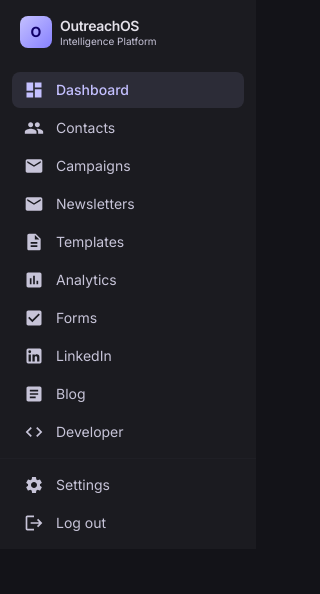
Scenario: Sidebar › shows an error message when sign out fails
The width and height of the screenshot is (320, 594).
Step 1. Click the button "Log out" → (128, 523), box [12,505,244,541]
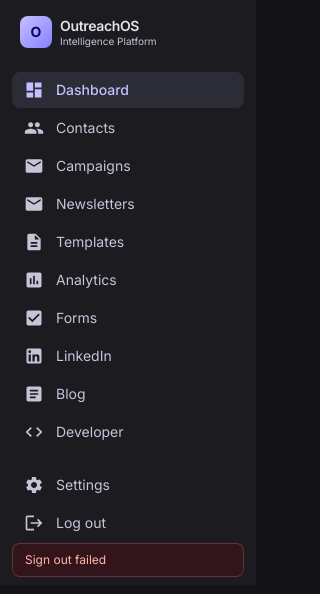
Now the message reads "Sign out failed", box [25,552,106,567]
